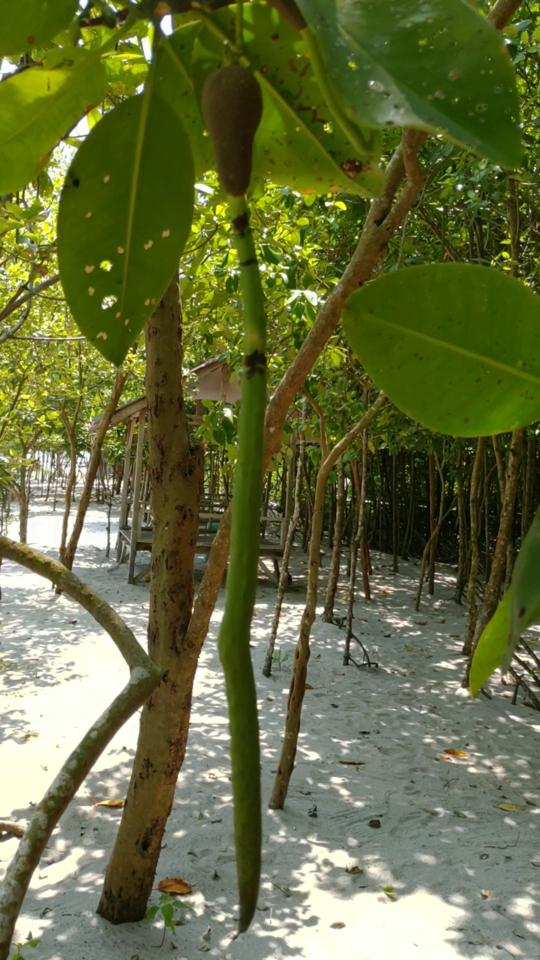mentah: (174, 32, 291, 947)
